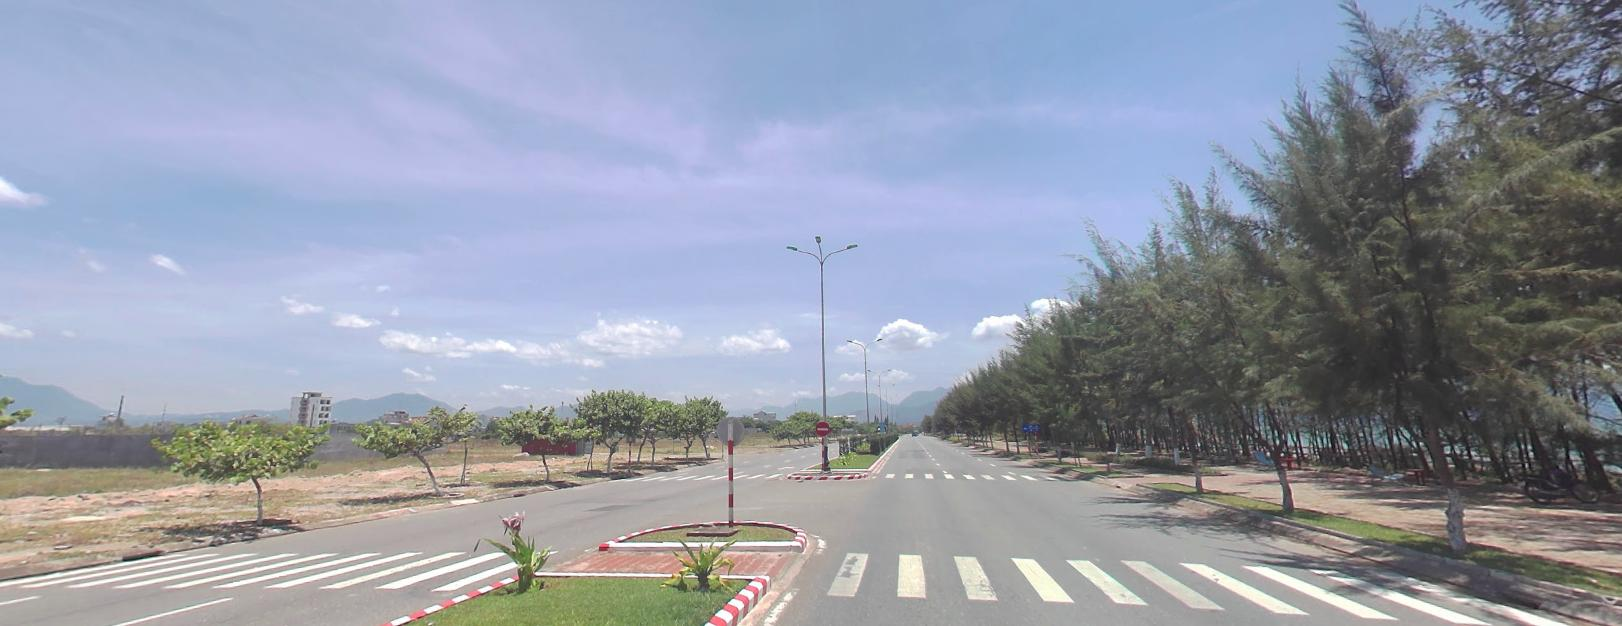Cam nguoc chieu: (815, 420, 829, 434)
